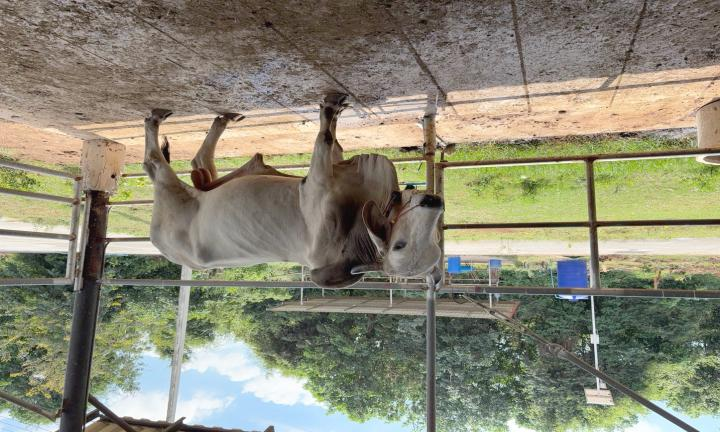Brahman: (143, 94, 444, 289)
